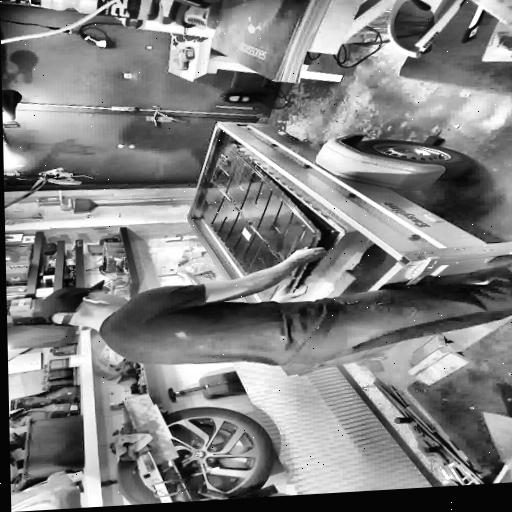b_casing: (201, 143, 323, 301)
